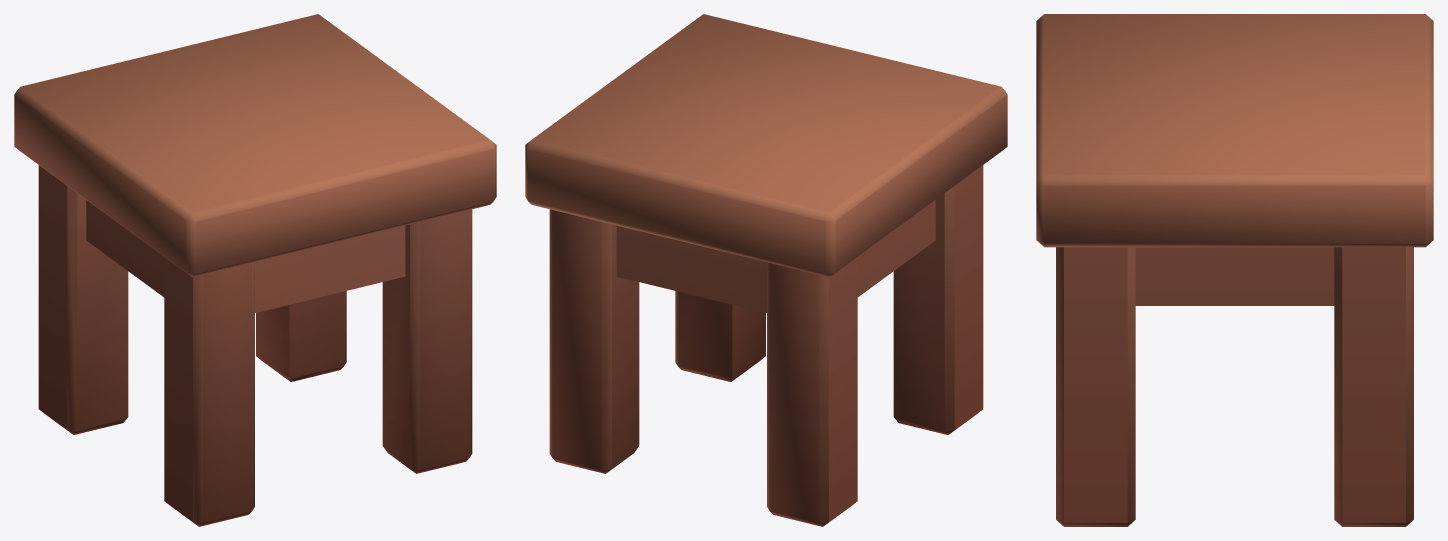
The model's file is table_small.glb.
3 renders of one model, left to right at view 1: azimuth 30°, elevation 25°; view 2: azimuth 150°, elevation 25°; view 3: azimuth 270°, elevation 25°, orthographic. The views are drawn at different scales.
Parts seen in each view (by area): view 1: table_small; view 2: table_small; view 3: table_small.
Boxes of the visible parts, x1,y1,x2,y2 form: table_small: (14,14,496,526); table_small: (525,14,1007,526); table_small: (1036,14,1433,526).
Size of the model in its own units: 1 by 1 by 1.
1 material, 1 textured.
